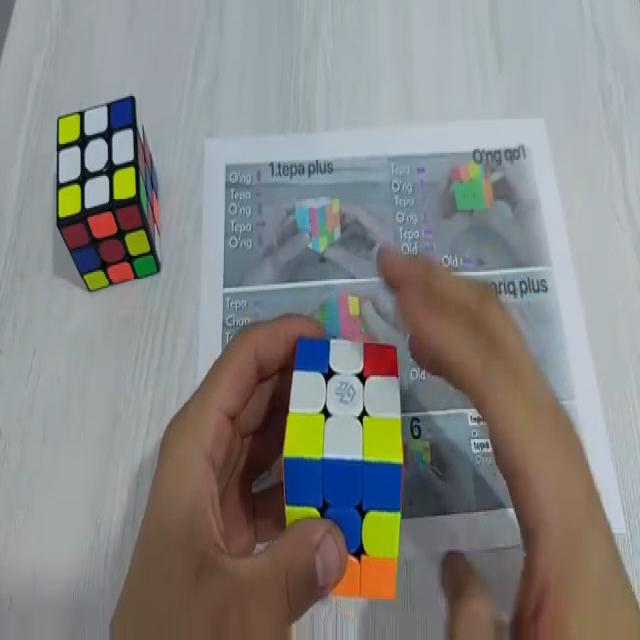Rub: (280, 333, 404, 603), (54, 90, 161, 296)
